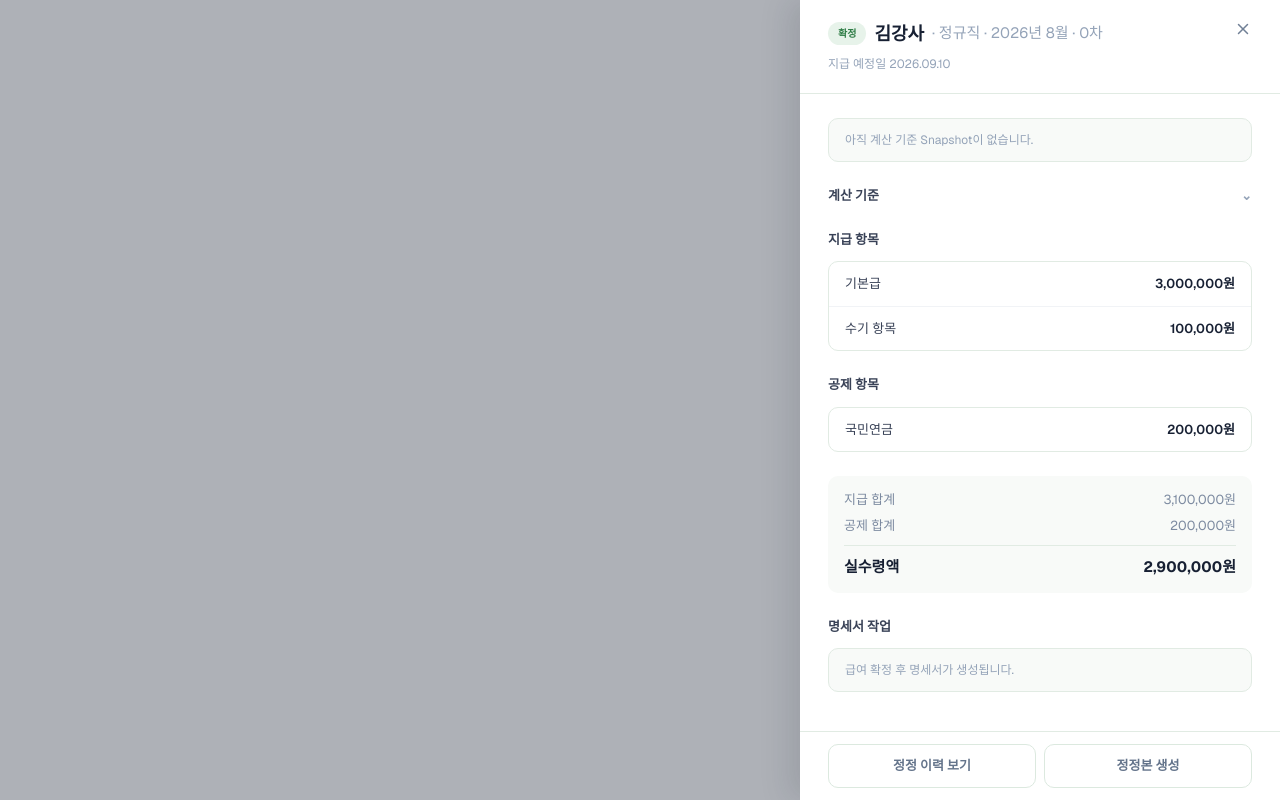
Scenario: PayrollDetail › 정정 이력 보기를 클릭하면 이력을 조회해 이력 패널을 연다
Click the button "정정 이력 보기" at (932, 766), box [828,744,1036,788]
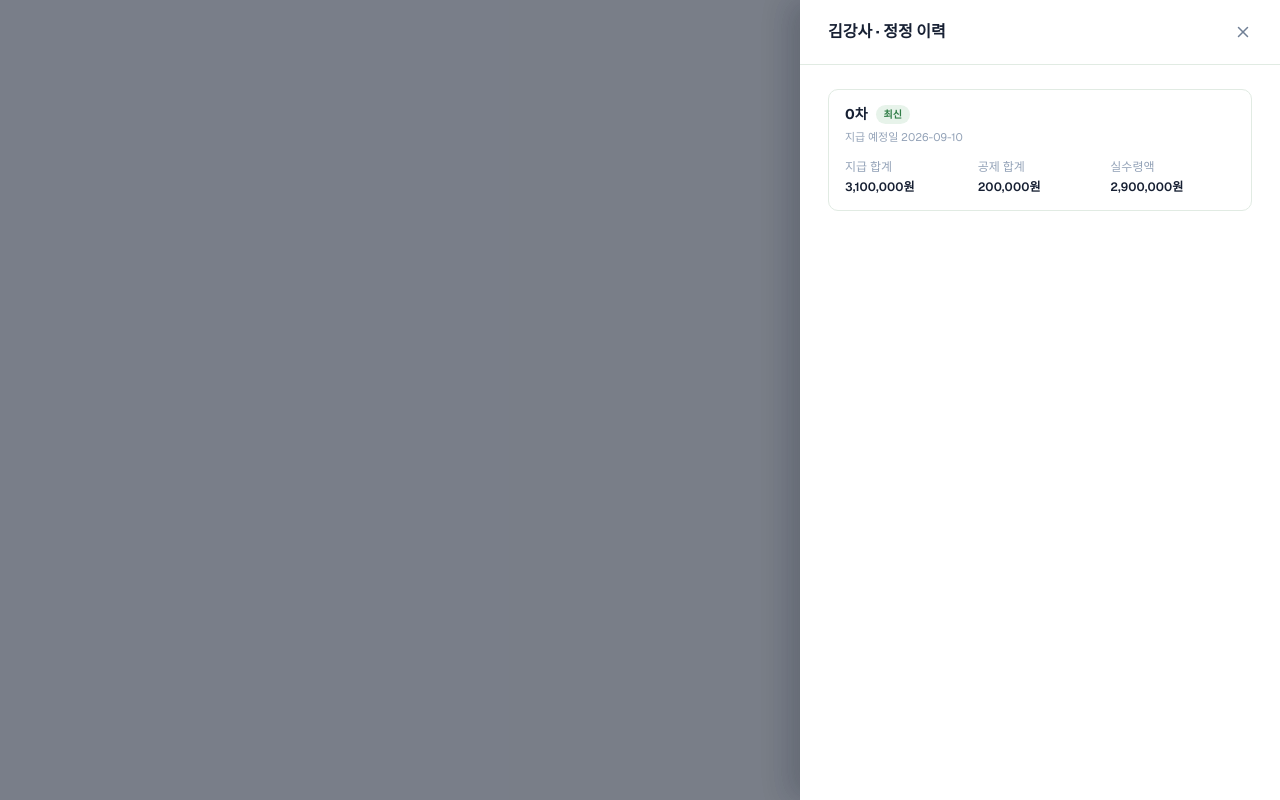
Expected: the heading "김강사 · 정정 이력" is shown, [828,20,946,44]
